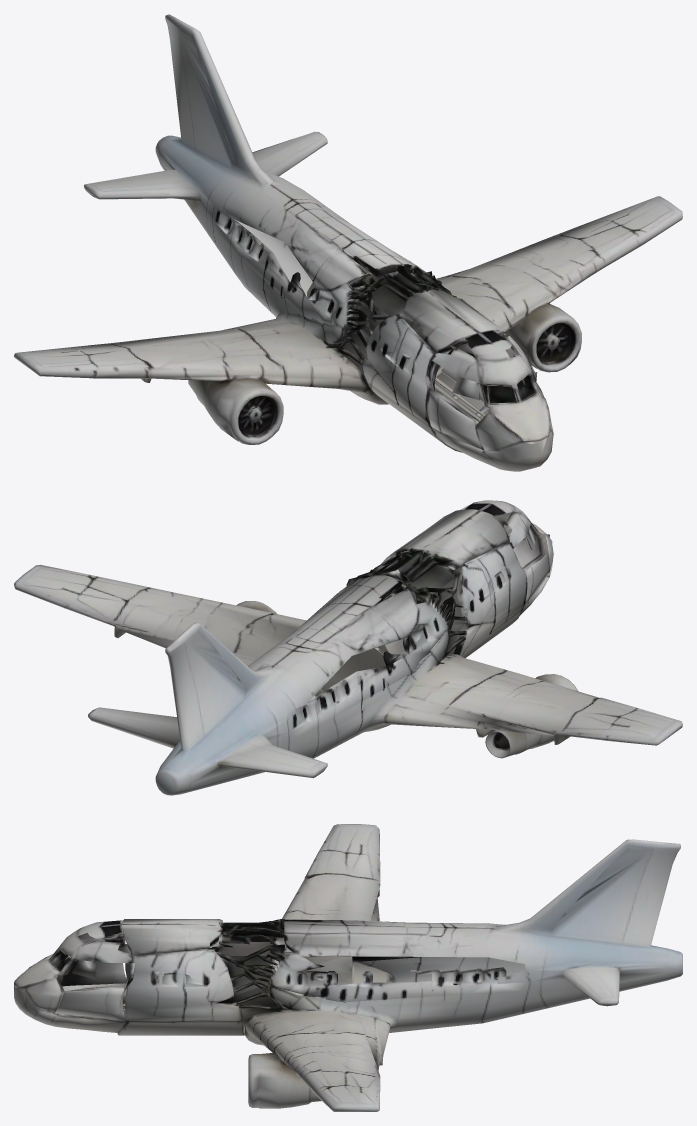
The model's file is broken_aeroplane_7b464903_v4.glb.
The picture shows the model from 3 angles, top to bottom: view 1: azimuth 30°, elevation 25°; view 2: azimuth 150°, elevation 25°; view 3: azimuth 270°, elevation 25°; orthographic projection. The views are drawn at different scales.
Parts seen in each view (by area): view 1: material; view 2: material; view 3: material.
Boxes of the visible parts, left/top/right/bottom form: material: left=14, top=14, right=682, bottom=471; material: left=14, top=500, right=682, bottom=795; material: left=14, top=824, right=682, bottom=1111.
Size of the model in its own units: 1.9 by 0.6326 by 1.9.
Materials: 1 (1 with a texture image).
